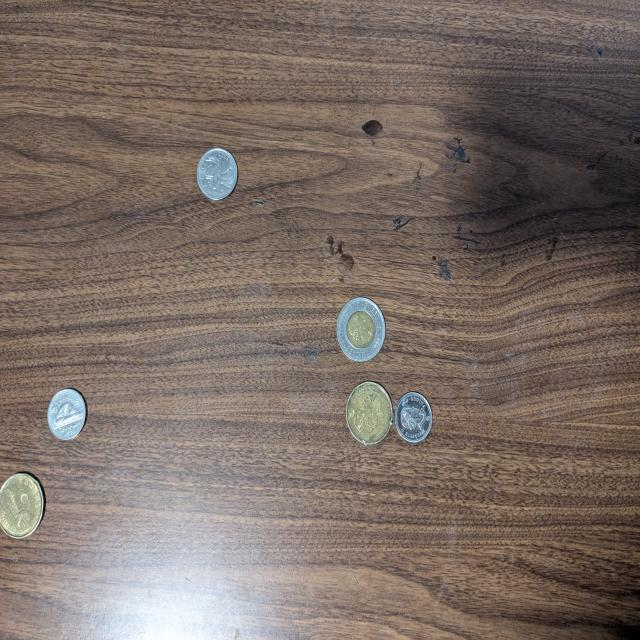loonie: (0, 474, 46, 541), (347, 382, 392, 445)
nickel: (48, 388, 86, 440), (396, 392, 433, 443)
quarter: (196, 149, 238, 201)
toonie: (337, 298, 385, 362)
